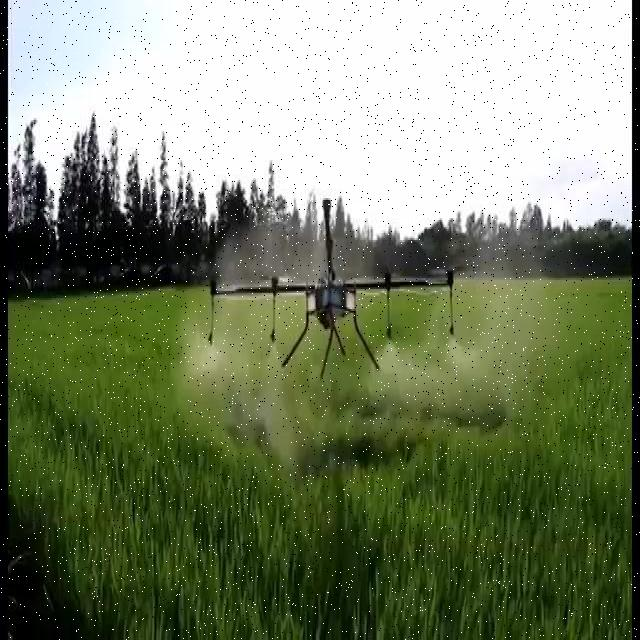UAV: (203, 196, 459, 382)
